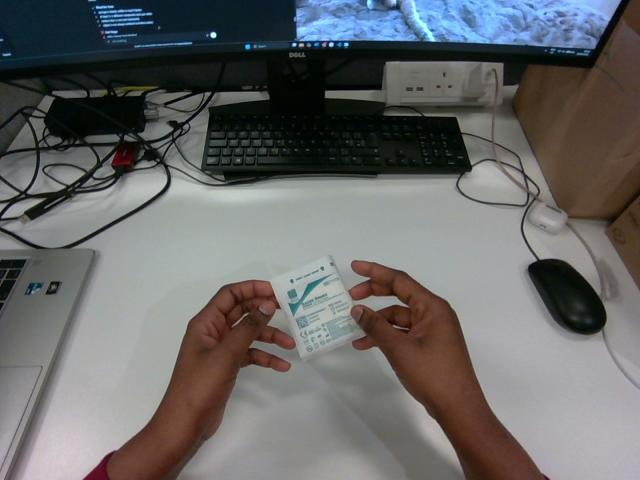gauze: (271, 256, 363, 359)
